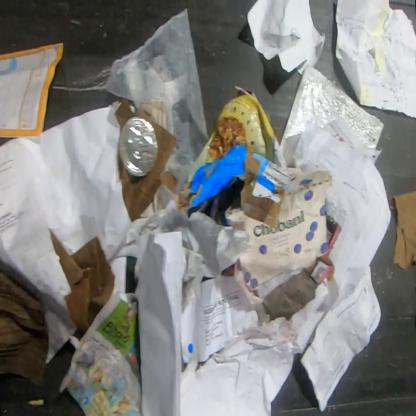cardboard: (224, 166, 334, 292), (175, 146, 291, 230), (0, 262, 50, 390), (208, 92, 282, 164), (222, 264, 234, 276)
metal: (118, 117, 158, 178)
soft_plastic: (105, 7, 210, 200), (282, 62, 385, 150)
